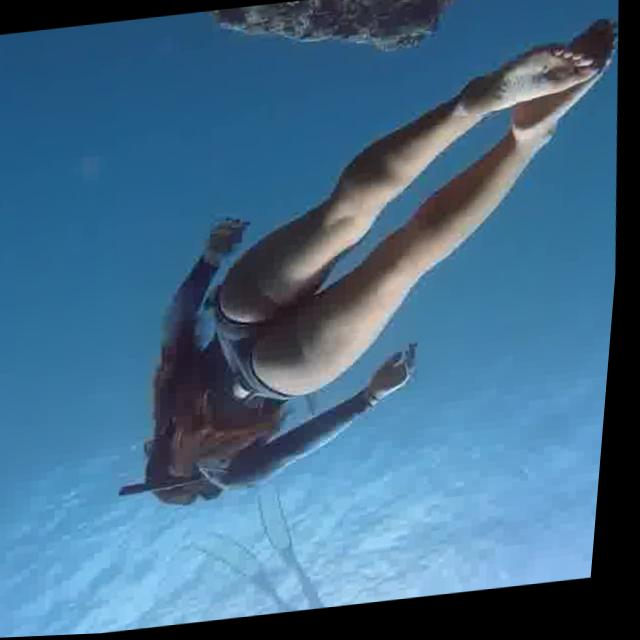human: (109, 19, 637, 531)
